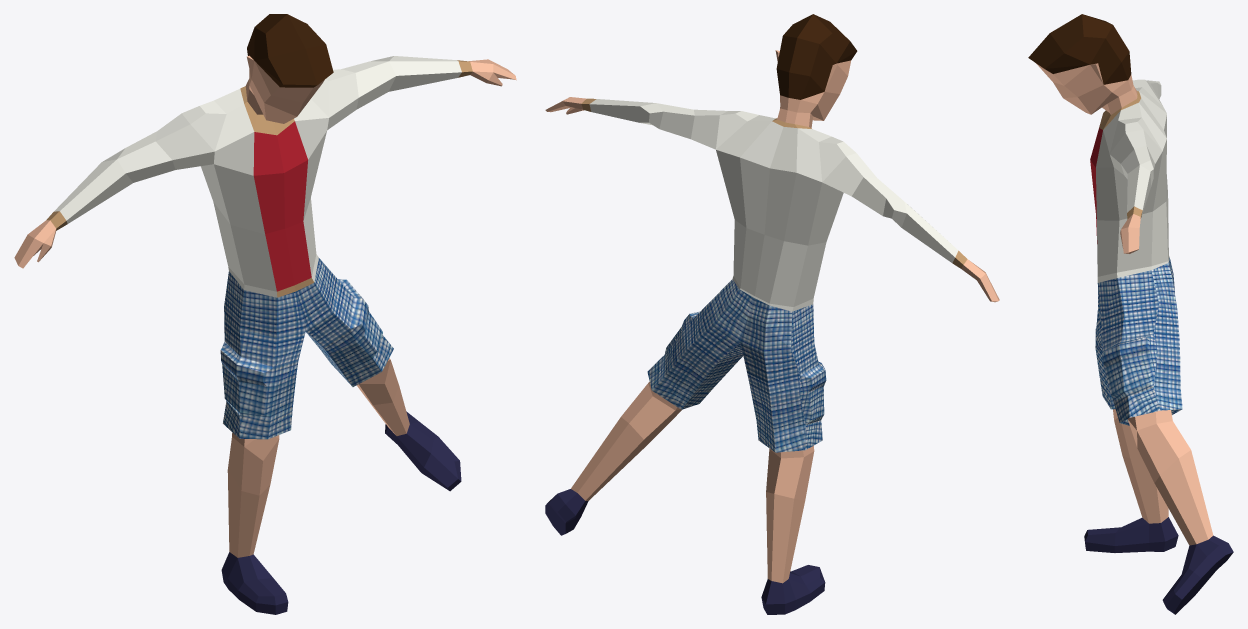
The model's file is SpringBoy.001.glb.
The picture shows the model from 3 angles, left to right: view 1: azimuth 30°, elevation 25°; view 2: azimuth 150°, elevation 25°; view 3: azimuth 270°, elevation 25°; orthographic projection. The views are drawn at different scales.
Parts seen in each view (by area): view 1: SpringBoy.001; view 2: SpringBoy.001; view 3: SpringBoy.001.
Part boxes in pixels (box(x1,y1,x2,y2)): SpringBoy.001: box(14, 14, 516, 614); SpringBoy.001: box(545, 14, 999, 614); SpringBoy.001: box(1028, 14, 1233, 614).
Size of the model in its own units: 1.05 by 1.24 by 0.4299.
1 material, 1 textured.
